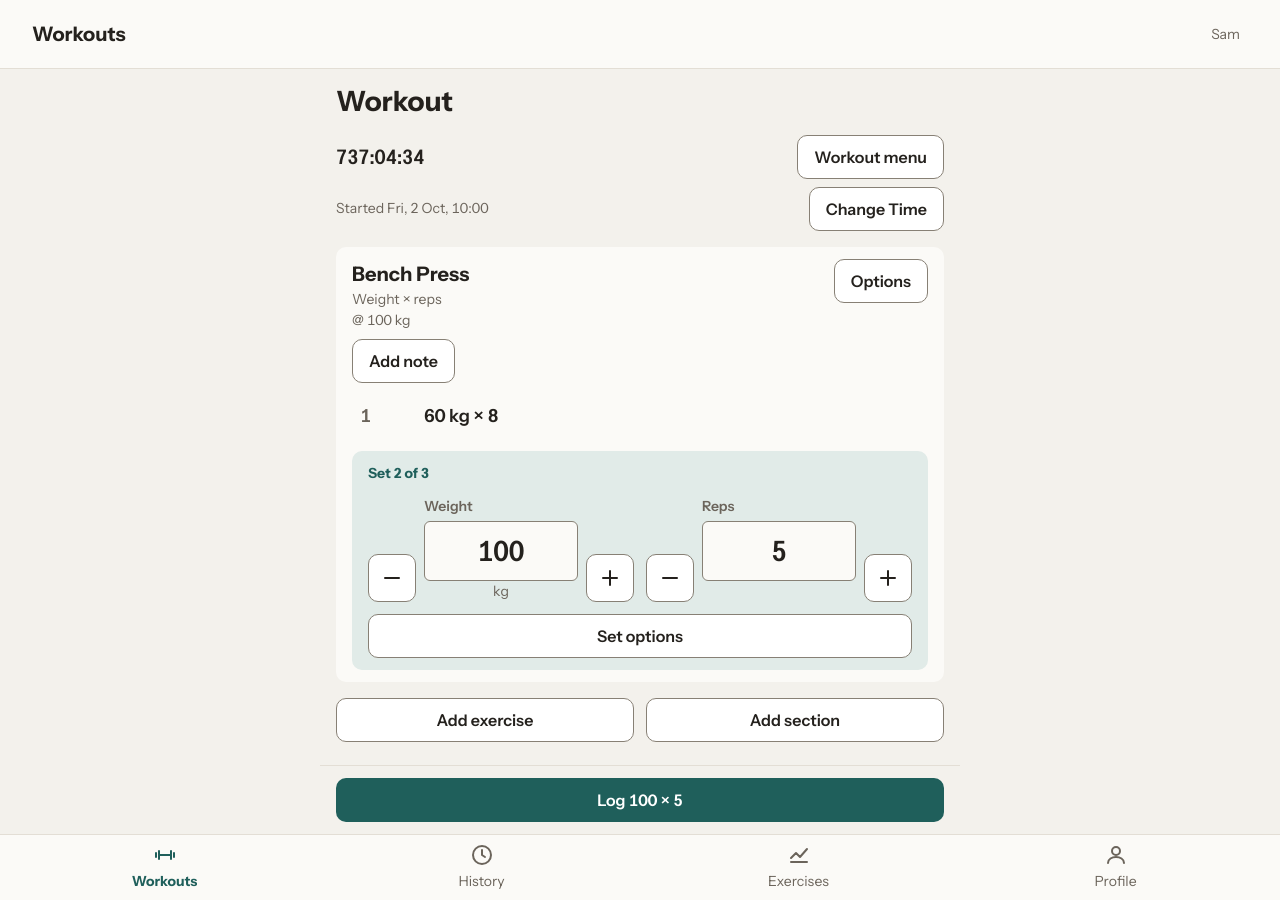
Test: 10.5 AC12 — both dialogs, one state, reset on each open › End workout early shows the line and an unchecked box
The image size is (1280, 900).
Expected: the heading "Workout" is shown, [336,84,453,118]
Click the button "Workout menu" at (871, 157), box [797,135,944,179]
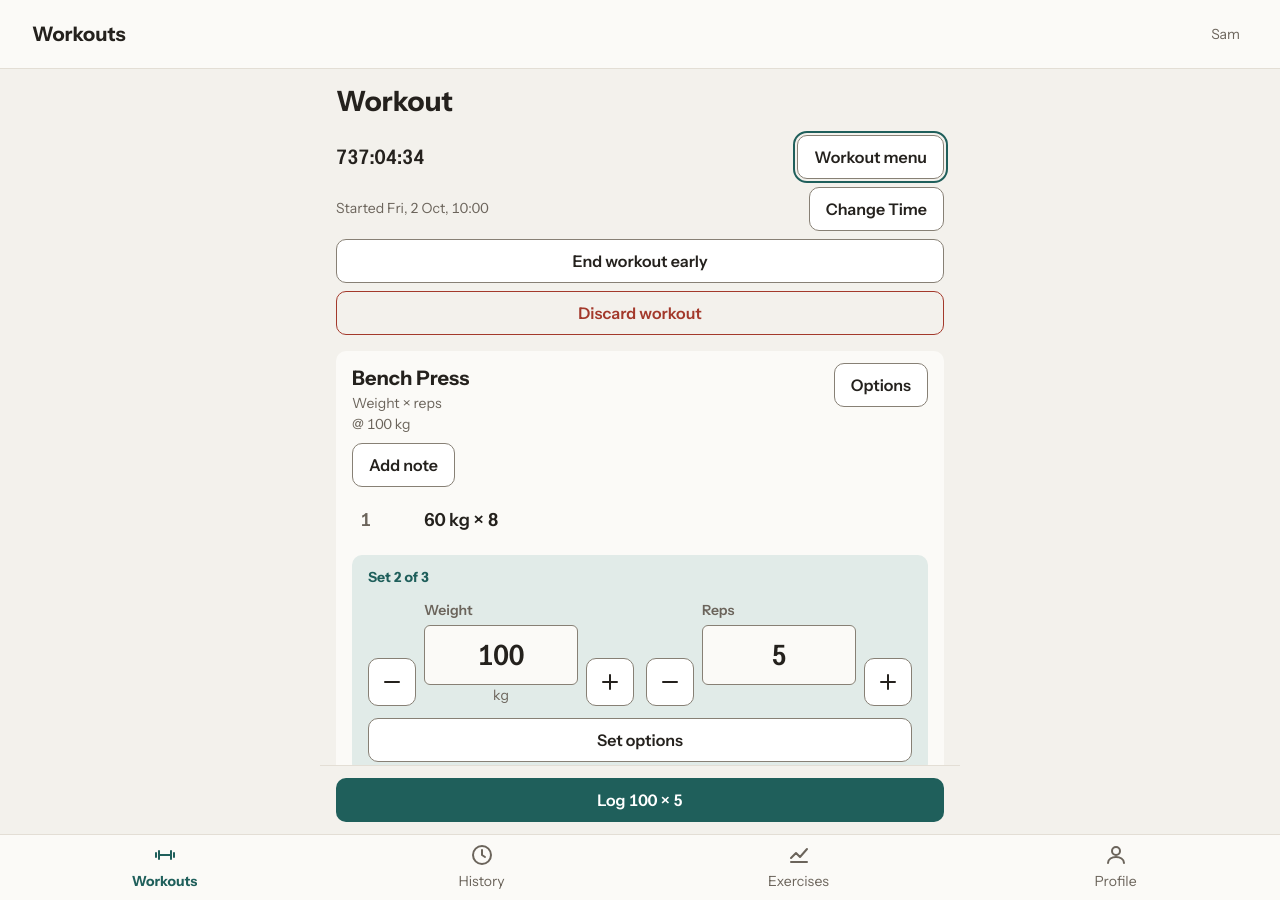
Click the button "End workout early" at (640, 261), box [336,239,944,283]
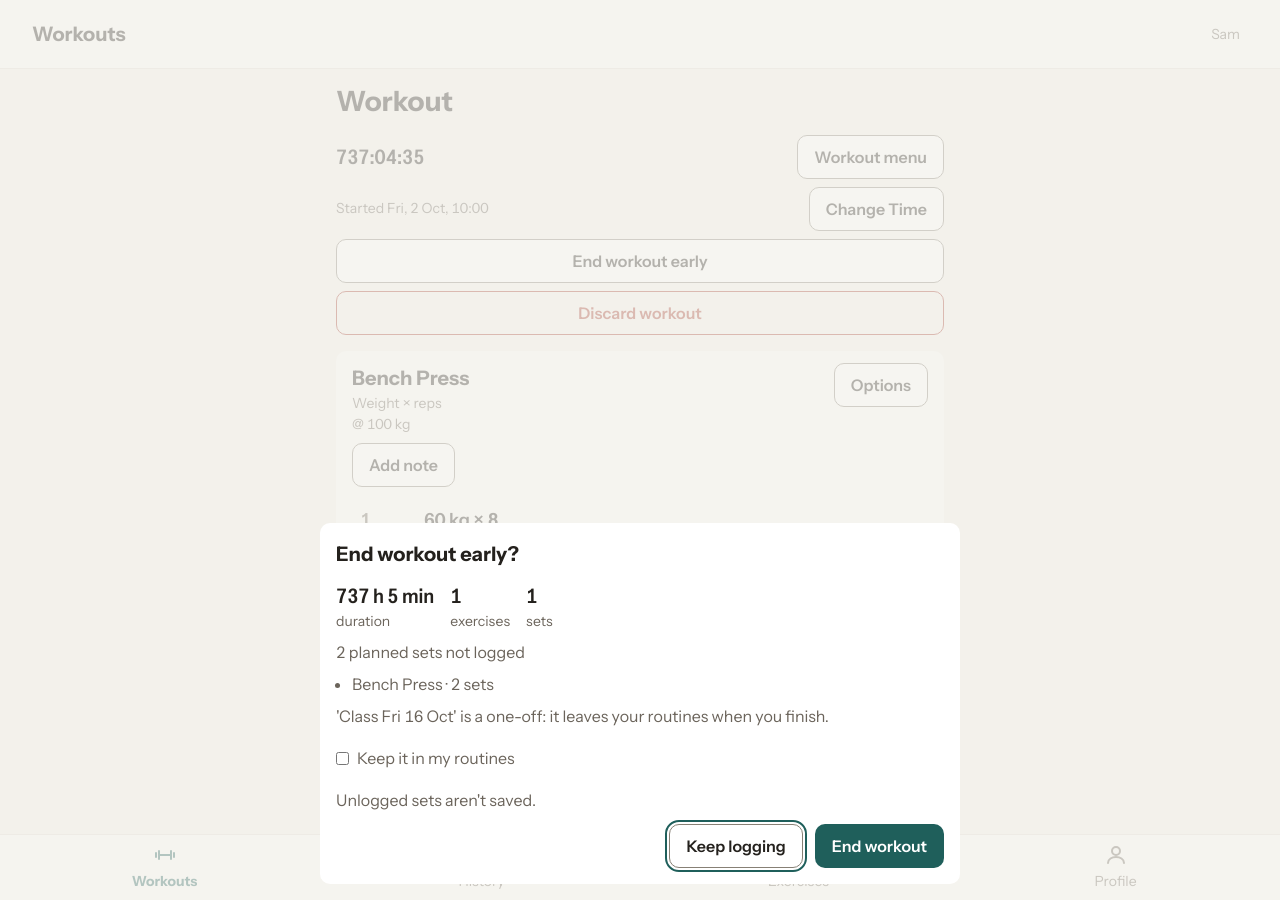
Result: the checkbox labelled "Keep it in my routines" is not checked at [336,752,349,764]
